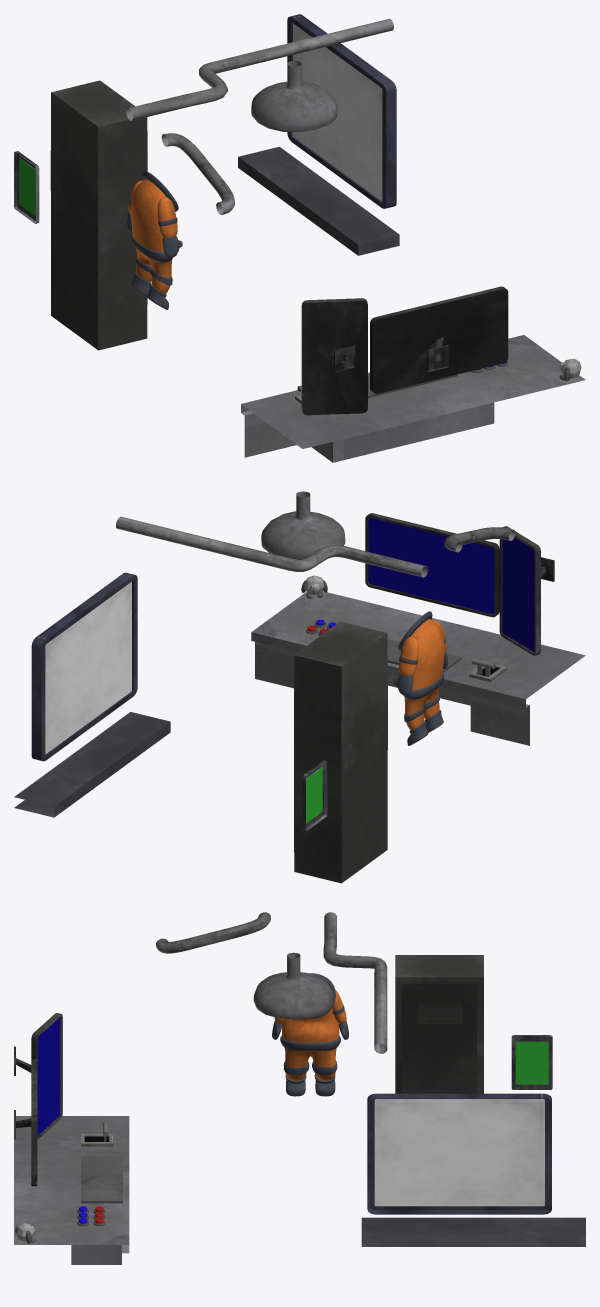
The model's file is drill_interior.fbx.
3 views of the same model, one above another, from view 1: azimuth 30°, elevation 25°; view 2: azimuth 150°, elevation 25°; view 3: azimuth 270°, elevation 25° (orthographic). The views are drawn at different scales.
Parts seen in each view (by area): view 1: drill_locker.001, drill_monitors, drill_desk, drill_item_rack, drill_bench, drill_interior_pipes, slime_suit_body, drill_lights, drill_door_switch; view 2: drill_locker.001, drill_desk, drill_monitors, drill_item_rack, drill_bench, drill_interior_pipes, slime_suit_body, drill_lights, drill_door_switch, drill_engine_lever; view 3: drill_item_rack, drill_desk, drill_locker.002, drill_bench, slime_suit_body, drill_monitors, drill_locker.001, drill_interior_pipes, drill_lights, drill_door_switch, drill_keyboard.
Boxes of the visible parts, box(x1,y1,x2,y2) form: drill_locker.001: box(50, 80, 147, 350); drill_monitors: box(301, 286, 508, 415); drill_desk: box(241, 335, 585, 462); drill_item_rack: box(287, 14, 396, 208); drill_bench: box(238, 146, 399, 255); drill_interior_pipes: box(126, 18, 393, 214); slime_suit_body: box(127, 171, 182, 309); drill_lights: box(251, 60, 337, 131); drill_door_switch: box(14, 151, 39, 223); drill_locker.001: box(294, 621, 387, 883); drill_desk: box(251, 591, 585, 745); drill_monitors: box(365, 513, 554, 655); drill_item_rack: box(31, 572, 137, 761); drill_bench: box(14, 712, 170, 817); drill_interior_pipes: box(116, 516, 515, 577); slime_suit_body: box(394, 611, 447, 745); drill_lights: box(261, 491, 345, 559); drill_door_switch: box(303, 760, 327, 830); drill_engine_lever: box(469, 658, 506, 682); drill_item_rack: box(367, 1093, 551, 1214); drill_desk: box(14, 1116, 129, 1264); drill_locker.002: box(402, 983, 477, 1093); drill_bench: box(361, 1217, 585, 1246); slime_suit_body: box(272, 973, 348, 1096); drill_monitors: box(14, 1013, 62, 1186); drill_locker.001: box(395, 955, 483, 1093); drill_interior_pipes: box(156, 912, 387, 1053); drill_lights: box(253, 952, 333, 1019); drill_door_switch: box(511, 1035, 552, 1089); drill_keyboard: box(81, 1156, 122, 1203).
Size of the model in its own units: 420 by 402 by 764.
1 material, 1 textured.
